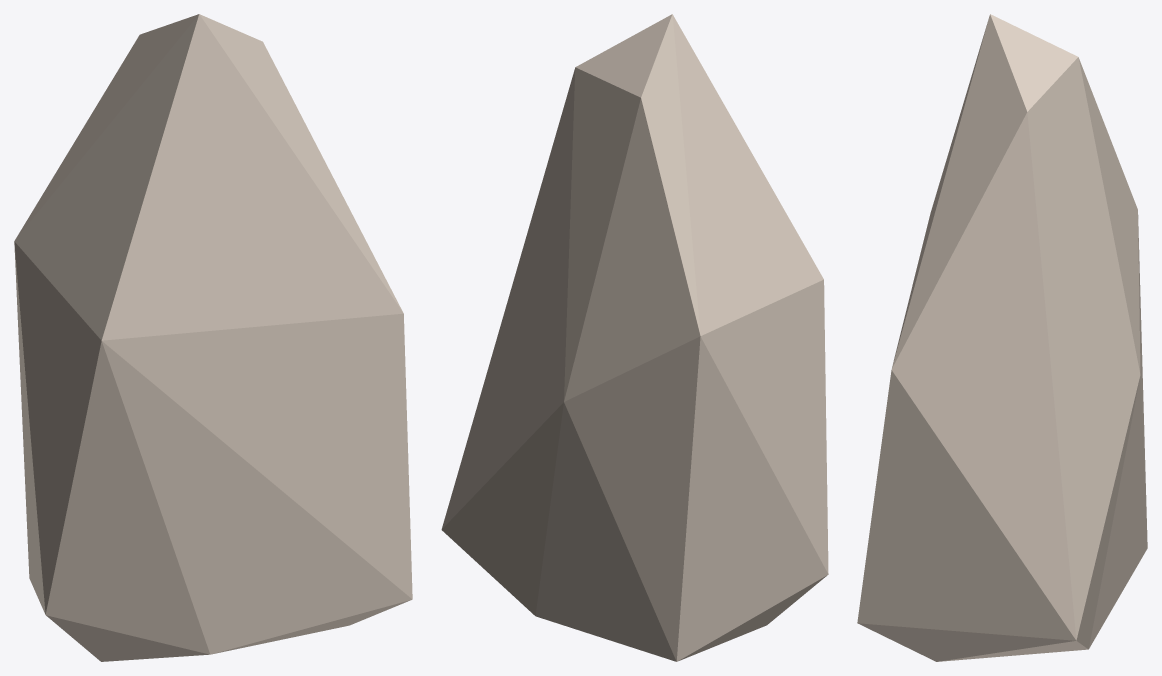
The model's file is stone_01.obj.
3 renders of one model, left to right at view 1: azimuth 30°, elevation 25°; view 2: azimuth 150°, elevation 25°; view 3: azimuth 270°, elevation 25°, orthographic. The views are drawn at different scales.
Parts seen in each view (by area): view 1: Stone_01; view 2: Stone_01; view 3: Stone_01.
Boxes of the visible parts, x1,y1,x2,y2 form: Stone_01: (14, 14, 412, 661); Stone_01: (441, 14, 828, 661); Stone_01: (857, 14, 1147, 661).
Size of the model in its own units: 7.89 by 13.12 by 5.82.
